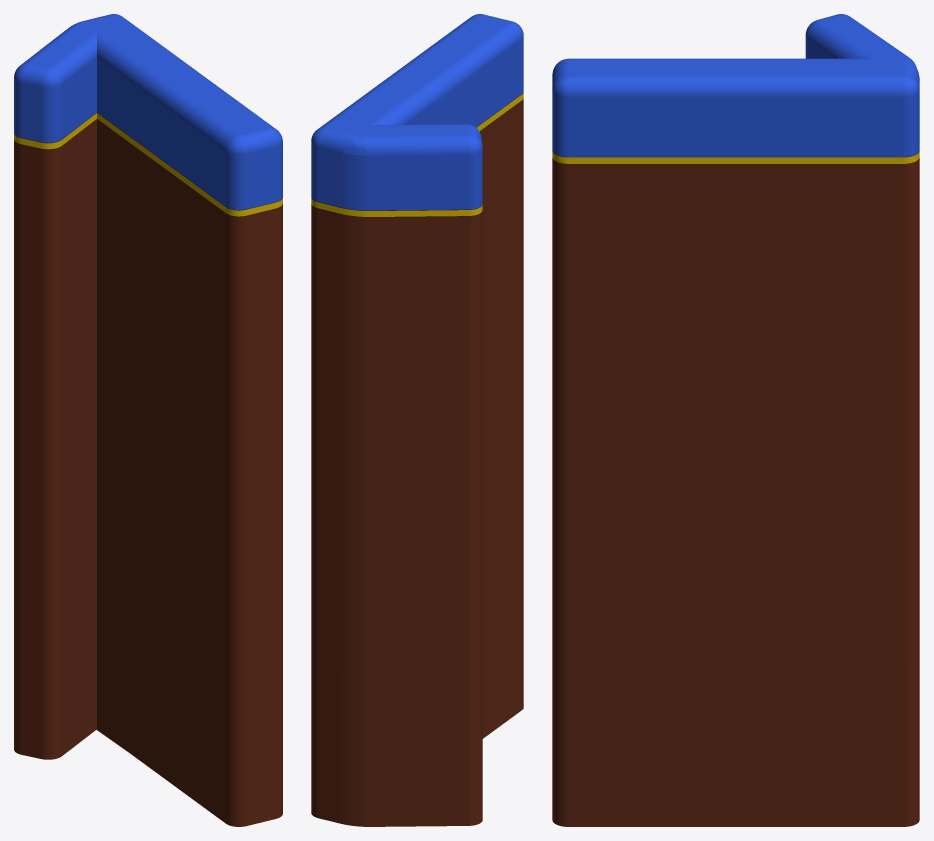
File: One.fbx
3 views of the same model, side by side, from view 1: azimuth 30°, elevation 25°; view 2: azimuth 150°, elevation 25°; view 3: azimuth 270°, elevation 25° (orthographic). The views are drawn at different scales.
Parts seen in each view (by area): view 1: 1; view 2: 1; view 3: 1.
Boxes of the visible parts, bbox=[...] form: 1: bbox=[14, 14, 282, 826]; 1: bbox=[311, 14, 523, 826]; 1: bbox=[552, 14, 919, 826].
Bounding box in the file's own units: 21.28 × 100 × 44.69.
